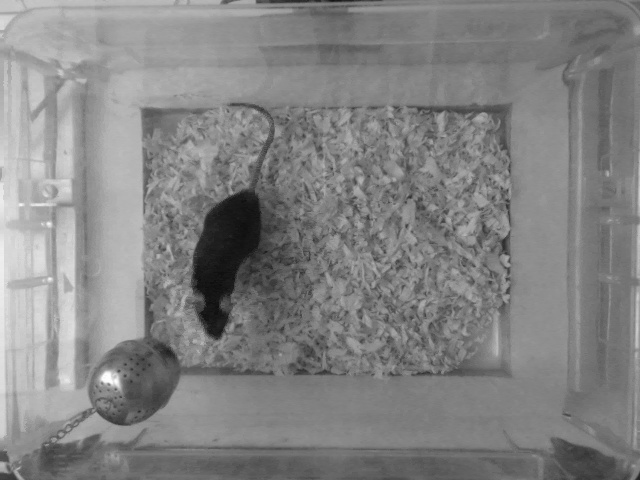mice: (189, 99, 276, 339)
